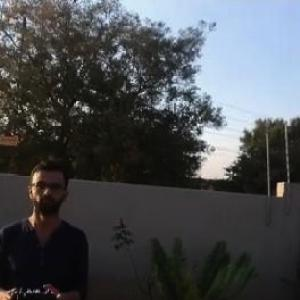follow: (0, 159, 92, 299)
